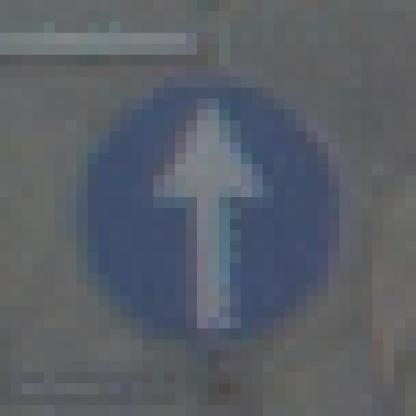AheadOnly: (56, 56, 362, 362)
